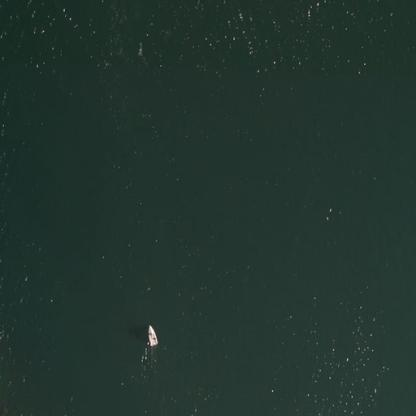ship: (140, 321, 164, 352)
